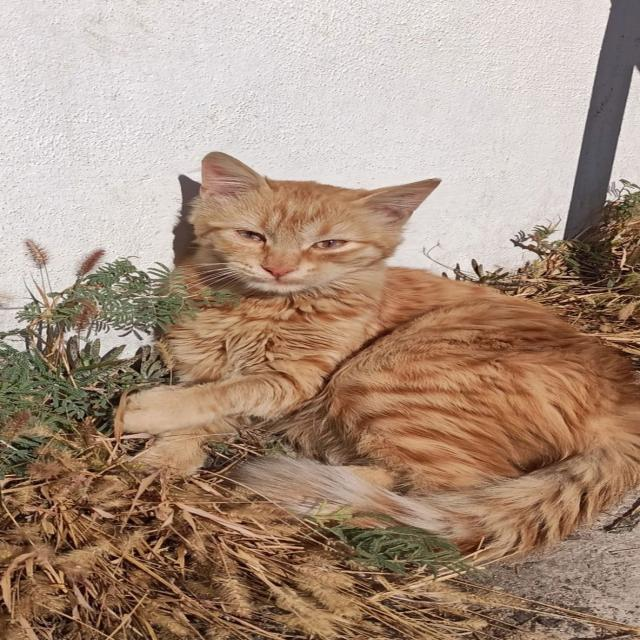sarman: (0, 157, 640, 586)
